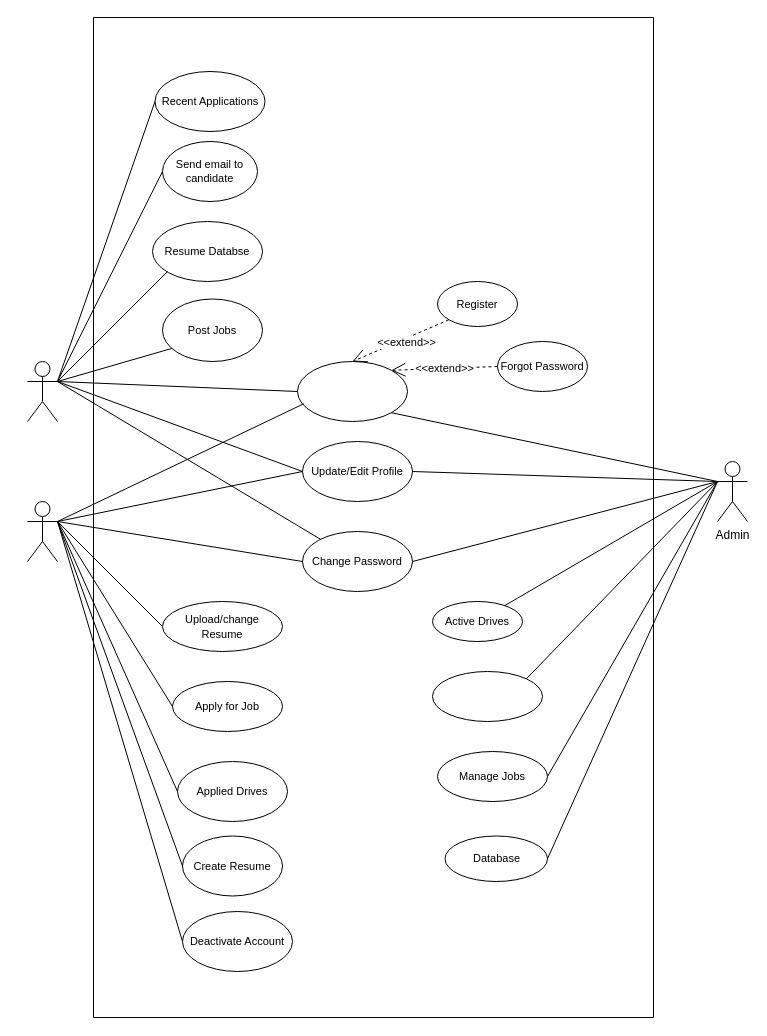
The diagram is 767 pixels wide and 1036 high, and some of its shapes have lost their labels. The shapes that lost their labels are listed below. From the top down, each one's centre as x and y in pixels, then its label:
At point (42, 391): "Company".
At point (352, 391): "Login and Logout".
At point (42, 531): "Student".
At point (487, 696): "Manage Applicants".
